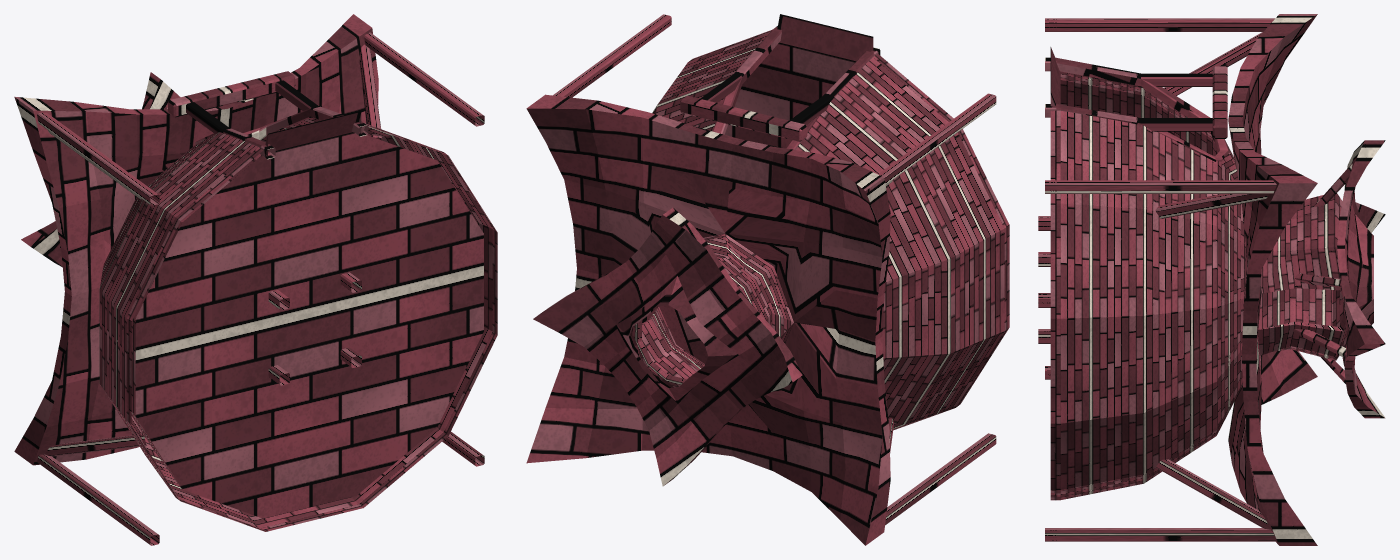
File: House_Windmill_Collision.fbx
3 renders of one model, left to right at view 1: azimuth 30°, elevation 25°; view 2: azimuth 150°, elevation 25°; view 3: azimuth 270°, elevation 25°, orthographic. The views are drawn at different scales.
Visible parts, largest first — view 1: House_Windmill_Collision; view 2: House_Windmill_Collision; view 3: House_Windmill_Collision.
Part boxes in pixels (box(x1,y1,x2,y2)): House_Windmill_Collision: box(14, 14, 497, 545); House_Windmill_Collision: box(526, 14, 1009, 545); House_Windmill_Collision: box(1038, 14, 1385, 545).
Size of the model in its own units: 117158 by 121669 by 94258.
